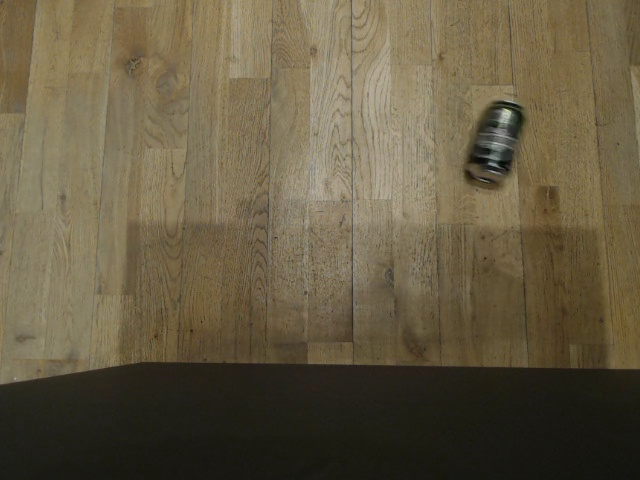beer: (462, 97, 524, 187)
